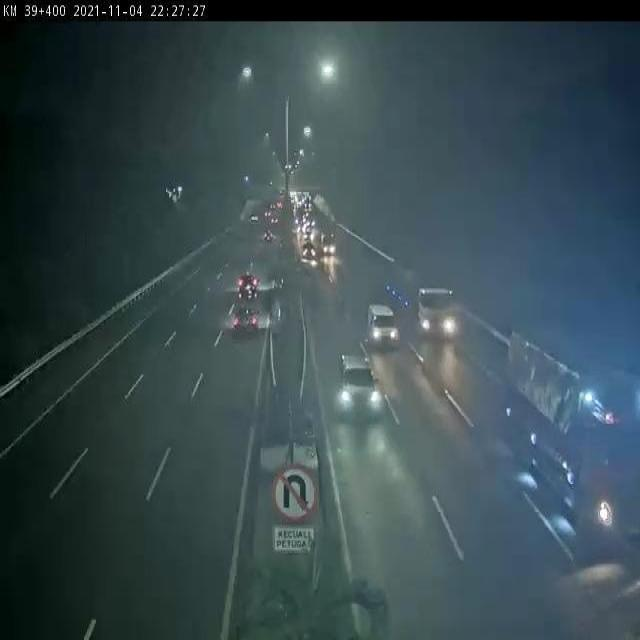Bus: (500, 322, 638, 544)
Car: (336, 346, 391, 428), (229, 299, 264, 339), (230, 266, 264, 304), (299, 244, 317, 266), (259, 227, 280, 245)
Truck: (365, 262, 475, 329)
Van: (362, 294, 403, 358)
